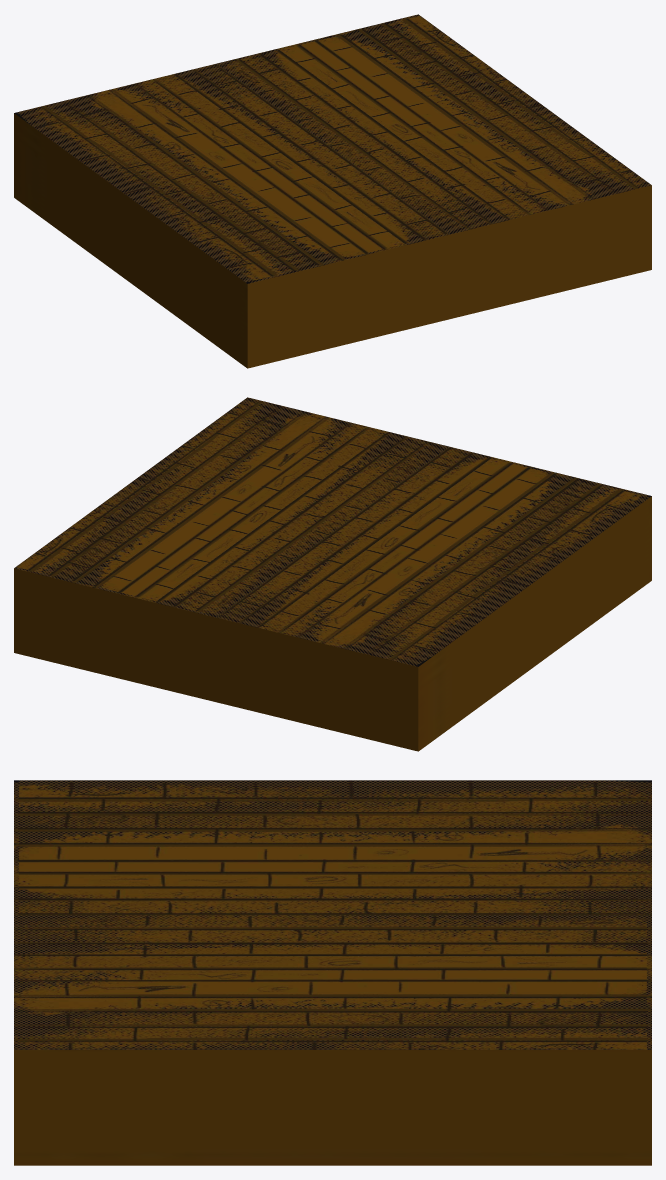
File: Floor.fbx
The picture shows the model from 3 angles, top to bottom: view 1: azimuth 30°, elevation 25°; view 2: azimuth 150°, elevation 25°; view 3: azimuth 270°, elevation 25°; orthographic projection. The views are drawn at different scales.
Parts seen in each view (by area): view 1: Cube.009; view 2: Cube.009; view 3: Cube.009.
Part boxes in pixels (x1=…): Cube.009: x1=14, y1=14, x2=651, y2=368; Cube.009: x1=14, y1=397, x2=651, y2=751; Cube.009: x1=14, y1=780, x2=651, y2=1165.
Bounding box in the file's own units: 10 × 2 × 10.
